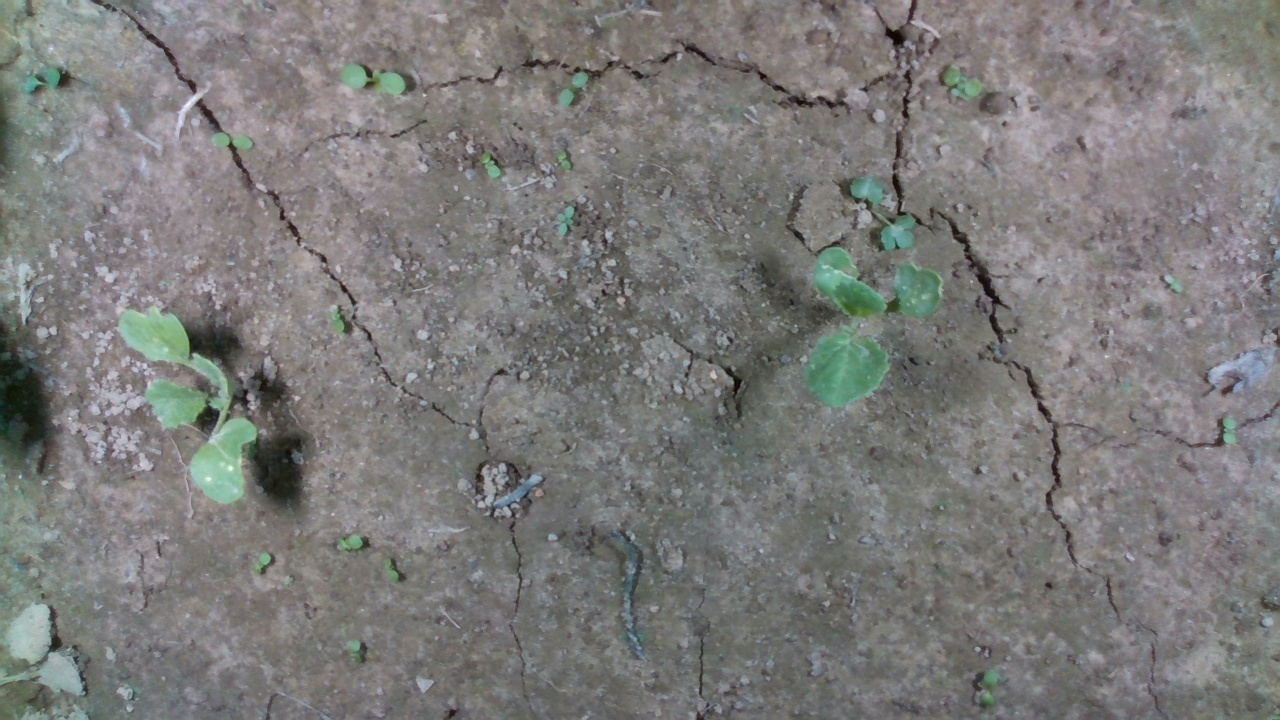weed: (936, 50, 1011, 120), (335, 55, 420, 111), (206, 124, 257, 157), (337, 634, 380, 673), (473, 142, 515, 177), (553, 72, 585, 113), (330, 526, 369, 558), (238, 549, 279, 578), (551, 198, 578, 240), (547, 146, 581, 172)
